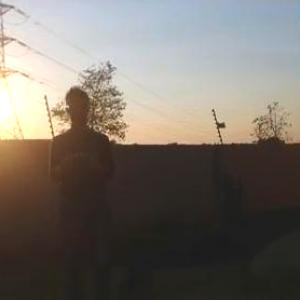follow: (49, 82, 120, 299)
